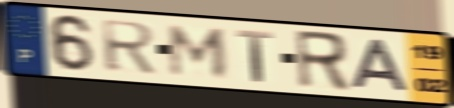6: (47, 12, 98, 75)
A: (350, 37, 412, 94)
M: (167, 23, 230, 80)
R: (292, 28, 354, 94), (98, 18, 159, 76)
T: (234, 27, 276, 84)
